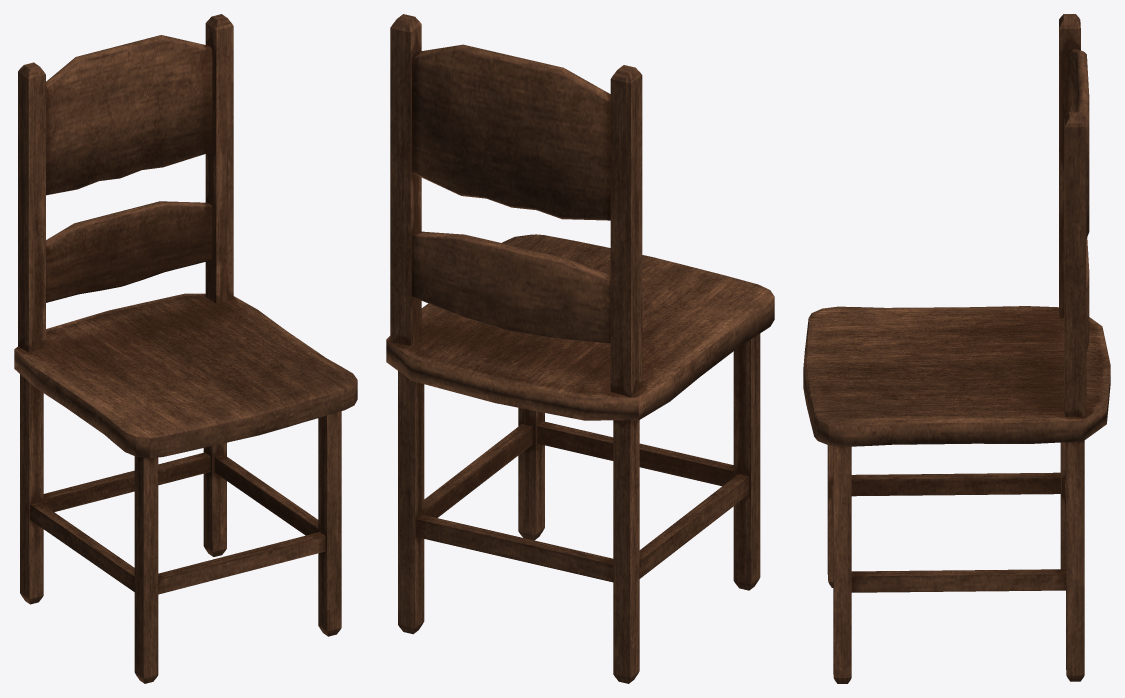
The model's file is CadeiraDeMadeira_Adm_CENA.fbx.
The picture shows the model from 3 angles, left to right: view 1: azimuth 30°, elevation 25°; view 2: azimuth 150°, elevation 25°; view 3: azimuth 270°, elevation 25°; orthographic projection. The views are drawn at different scales.
Parts seen in each view (by area): view 1: Cylinder.010; view 2: Cylinder.010; view 3: Cylinder.010.
Boxes of the visible parts, x1,y1,x2,y2 form: Cylinder.010: (14, 14, 357, 683); Cylinder.010: (386, 14, 774, 683); Cylinder.010: (803, 14, 1110, 683).
Bounding box in the file's own units: 48.37 × 107 × 52.31.
